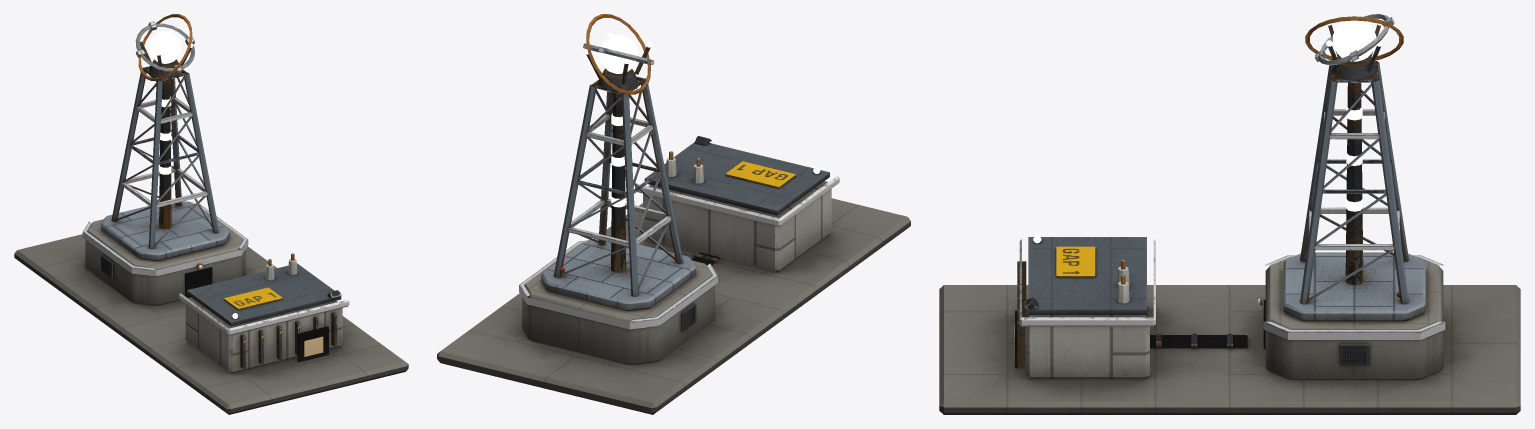
Rendered from gap.allies.glb.
3 views of the same model, side by side, from view 1: azimuth 30°, elevation 25°; view 2: azimuth 150°, elevation 25°; view 3: azimuth 270°, elevation 25° (orthographic). The views are drawn at different scales.
Visible parts, largest first — view 1: root_mesh, tower_mesh, ringA_mesh, ringB_mesh; view 2: root_mesh, tower_mesh, ringB_mesh; view 3: root_mesh, tower_mesh, ringA_mesh, ringB_mesh.
Boxes of the visible parts, bbox=[...] form: root_mesh: bbox=[14, 234, 408, 414]; tower_mesh: bbox=[82, 29, 248, 305]; ringA_mesh: bbox=[135, 21, 194, 73]; ringB_mesh: bbox=[138, 14, 192, 80]; root_mesh: bbox=[437, 136, 910, 414]; tower_mesh: bbox=[519, 32, 717, 364]; ringB_mesh: bbox=[586, 14, 650, 94]; root_mesh: bbox=[939, 235, 1520, 414]; tower_mesh: bbox=[1257, 19, 1445, 379]; ringA_mesh: bbox=[1315, 14, 1394, 65]; ringB_mesh: bbox=[1305, 16, 1403, 60].
Size of the model in its own units: 0.96 by 1.31 by 1.96.
Materials: 3 (1 with a texture image).
